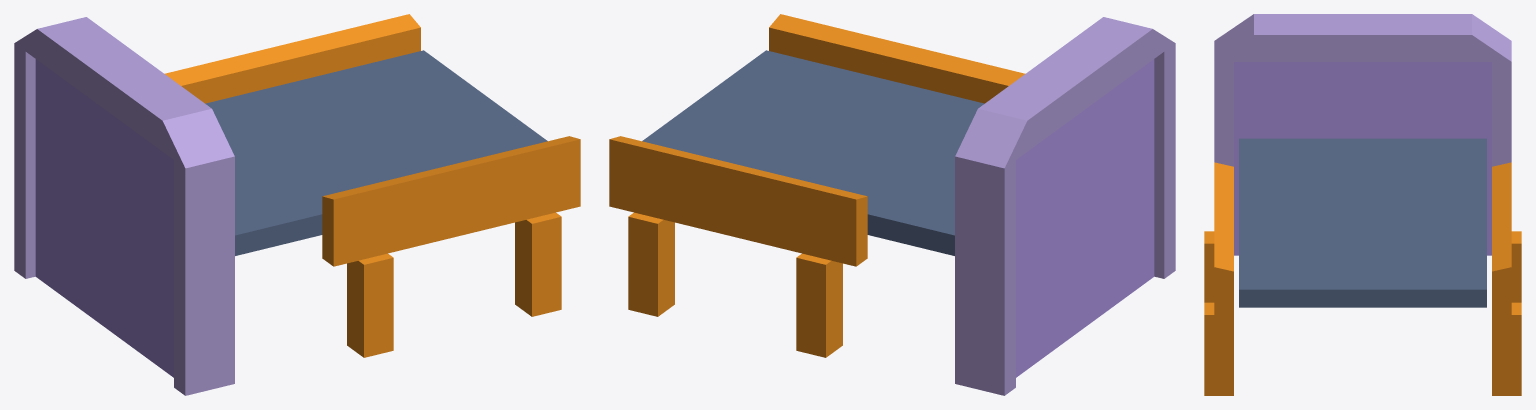
File: conveyor_start.glb
The picture shows the model from 3 angles, left to right: view 1: azimuth 30°, elevation 25°; view 2: azimuth 150°, elevation 25°; view 3: azimuth 270°, elevation 25°; orthographic projection. The views are drawn at different scales.
Visible parts, largest first — view 1: frame; view 2: frame; view 3: frame.
Boxes of the visible parts, left/top/right/bottom form: frame: left=14, top=14, right=580, bottom=395; frame: left=609, top=14, right=1175, bottom=395; frame: left=1204, top=14, right=1521, bottom=395.
Bounding box in the file's own units: 0.08 × 0.05 × 0.064.
